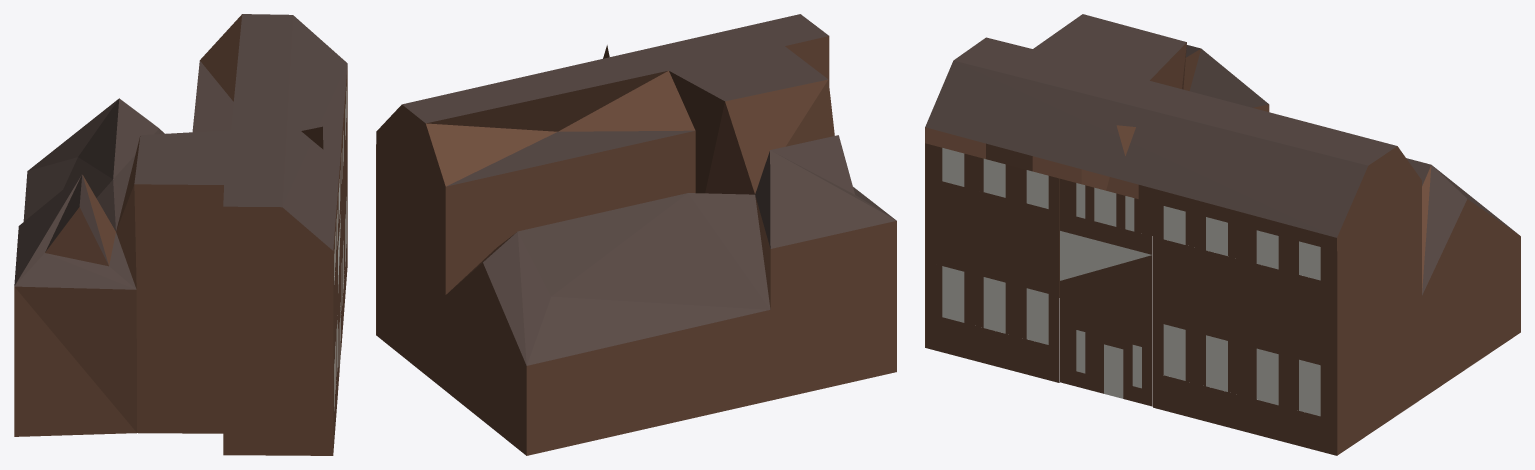
File: perdu.lod2.glb
The picture shows the model from 3 angles, left to right: view 1: azimuth 30°, elevation 25°; view 2: azimuth 150°, elevation 25°; view 3: azimuth 270°, elevation 25°; orthographic projection. The views are drawn at different scales.
Parts seen in each view (by area): view 1: lod2; view 2: lod2; view 3: lod2.
Boxes of the visible parts, bbox=[...] form: lod2: bbox=[14, 14, 347, 455]; lod2: bbox=[376, 14, 896, 455]; lod2: bbox=[925, 14, 1520, 455].
Size of the model in its own units: 26.59 by 14.94 by 29.95.
